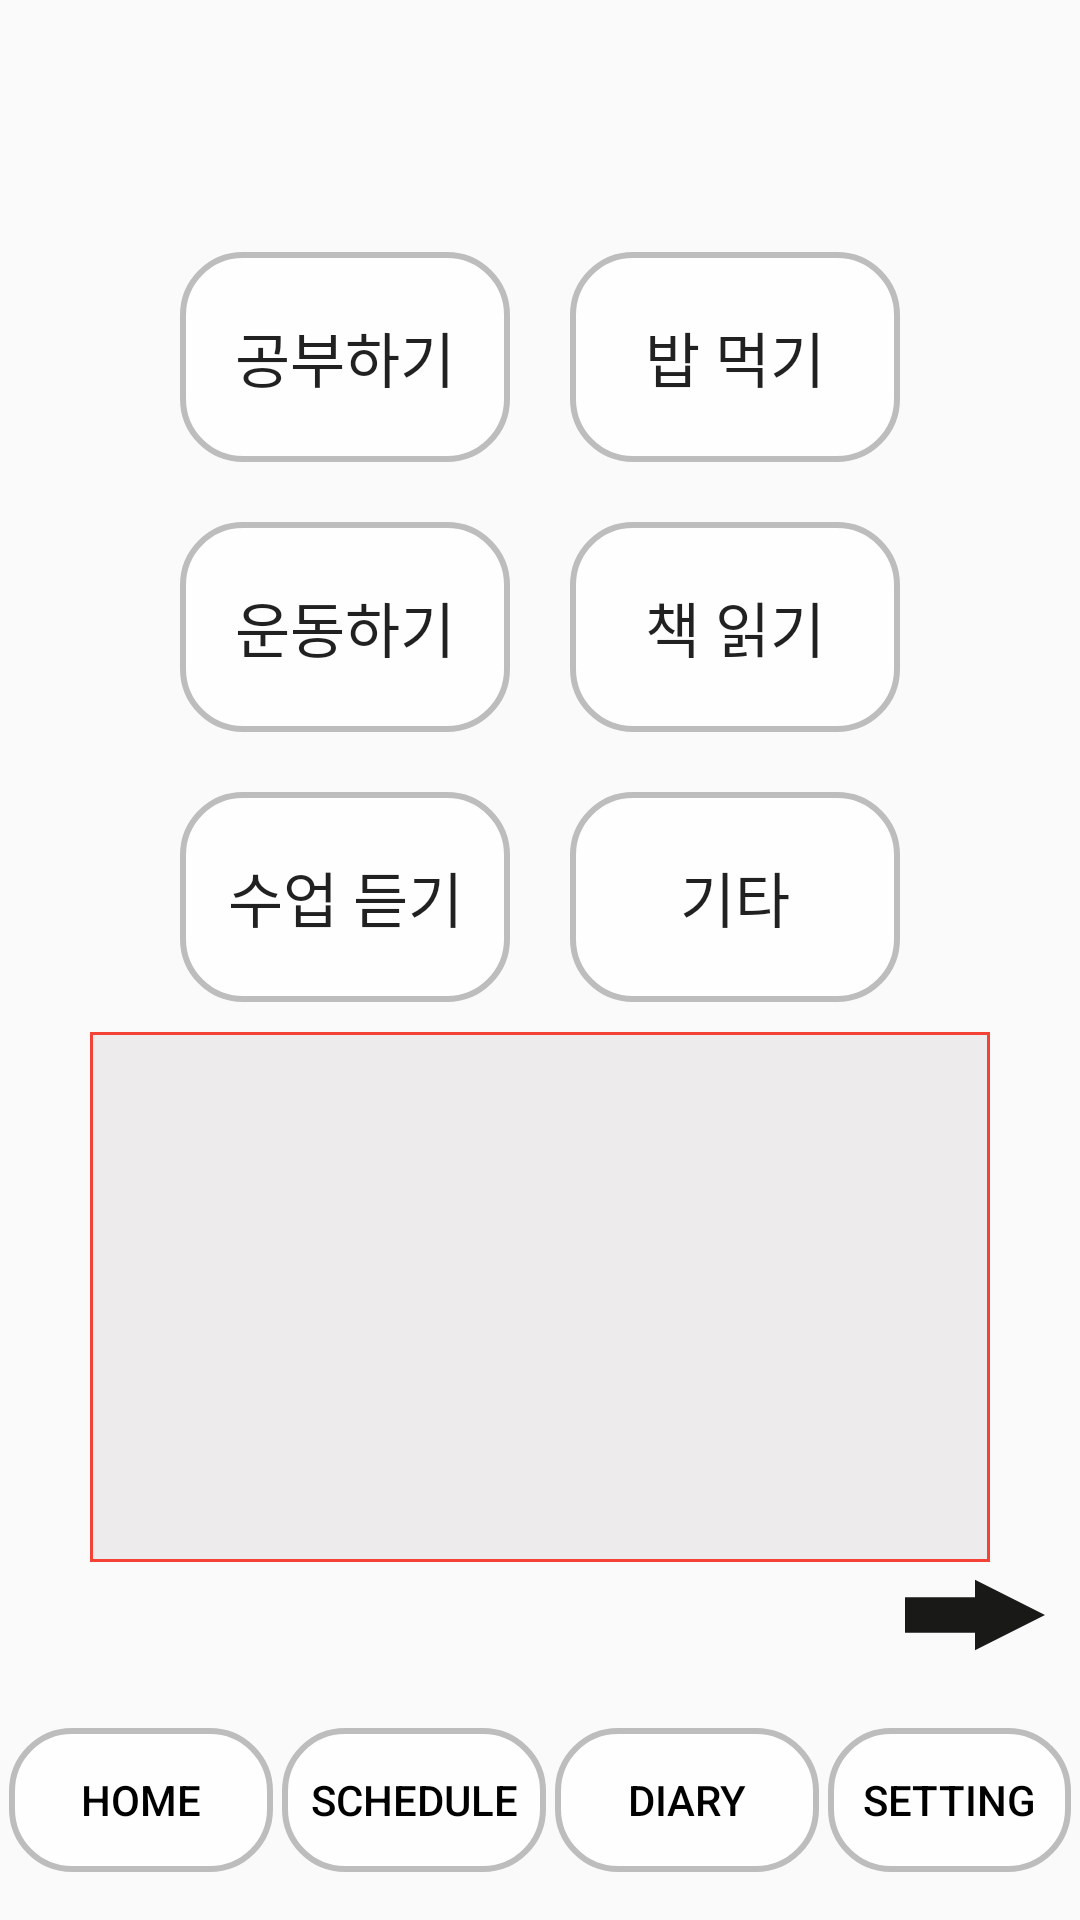

Icons on this 1080px×1920px Android screen, each with its box as (x1, y1, x2, y2):
forward: (905, 1580, 1045, 1650)
